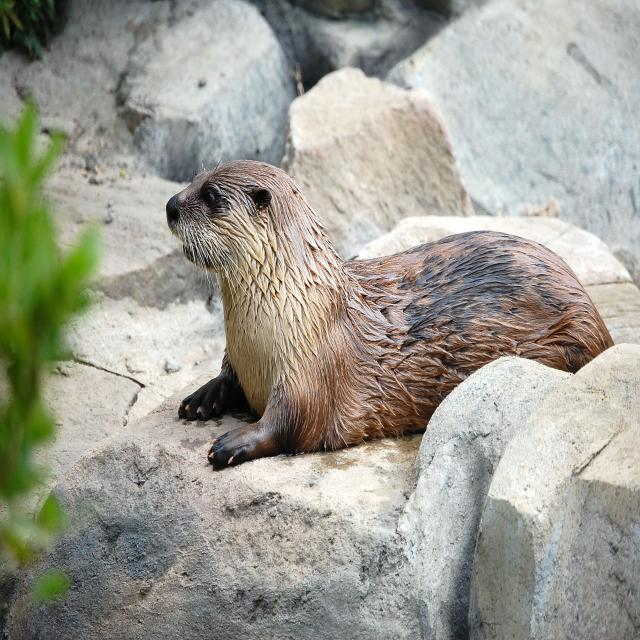otter: (168, 160, 615, 474)
